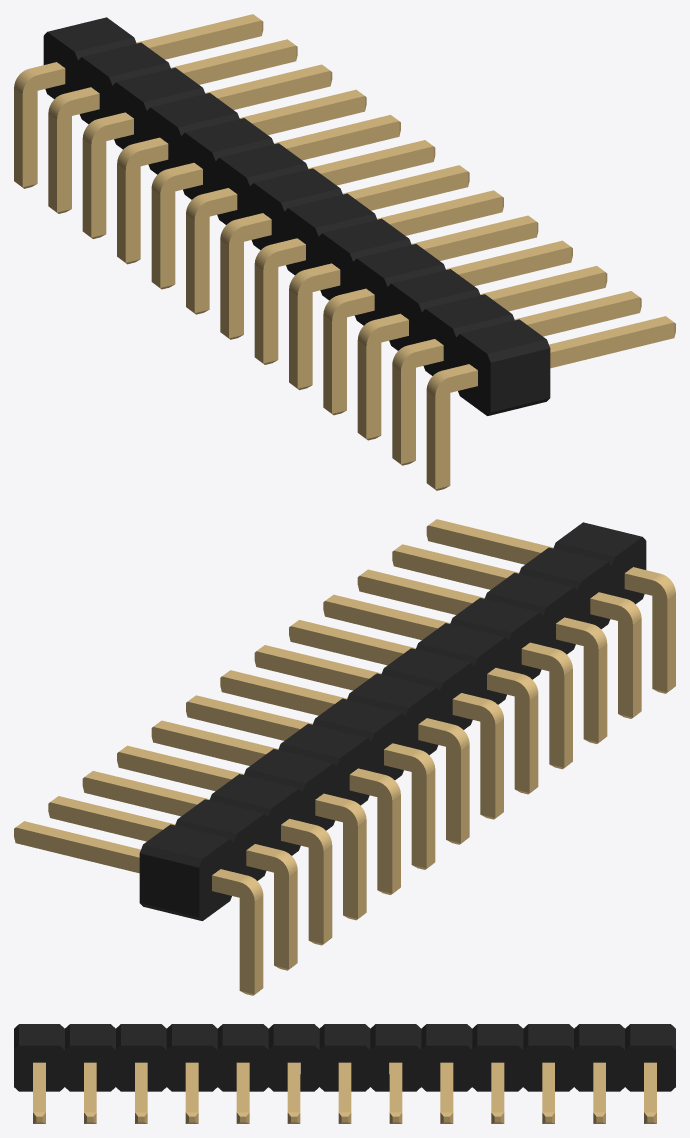
Rendered from kc-pinheader_1x13_p2.54mm_horizontal.glb.
3 views of the same model, one above another, from view 1: azimuth 30°, elevation 25°; view 2: azimuth 150°, elevation 25°; view 3: azimuth 270°, elevation 25° (orthographic). The views are drawn at different scales.
Parts seen in each view (by area): view 1: 0.75_0.5_0.25_0.9, 0_0_0_0; view 2: 0.75_0.5_0.25_0.9, 0_0_0_0; view 3: 0_0_0_0, 0.75_0.5_0.25_0.9.
Boxes of the visible parts, x1,y1,x2,y2 form: 0.75_0.5_0.25_0.9: (14,14,675,490); 0_0_0_0: (43,17,550,415); 0.75_0.5_0.25_0.9: (14,519,675,995); 0_0_0_0: (139,522,646,920); 0_0_0_0: (14,1024,675,1091); 0.75_0.5_0.25_0.9: (33,1062,656,1123).
Size of the model in its own units: 1.04 by 0.5539 by 3.3.
